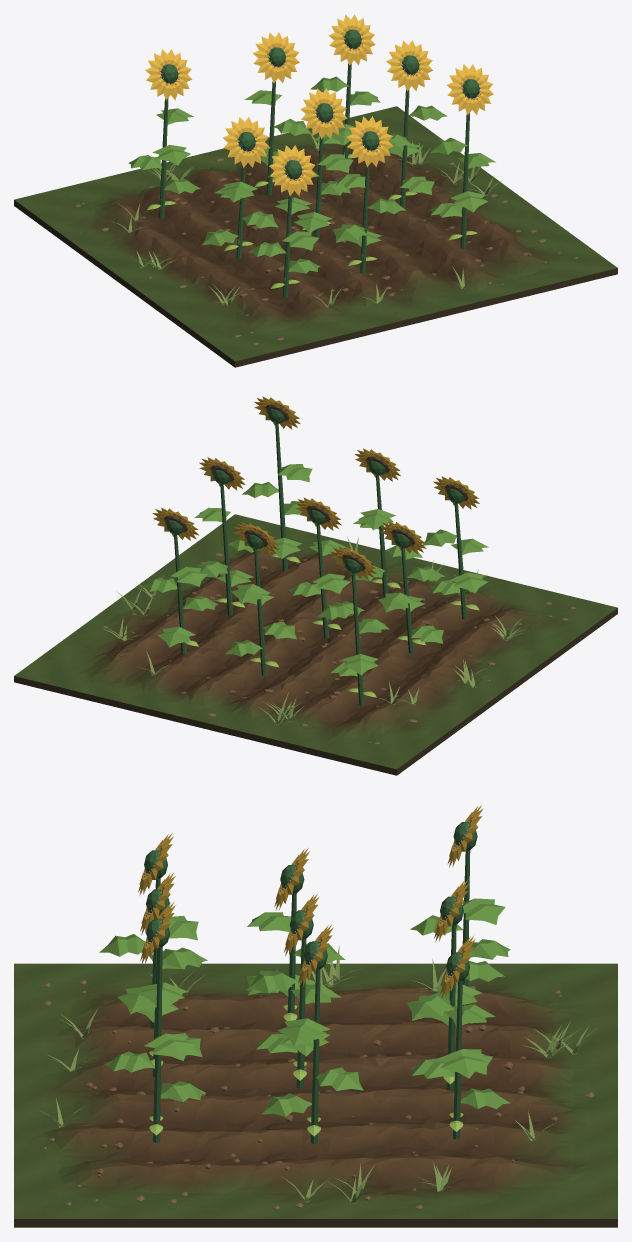
The model's file is sunflower-field.glb.
The picture shows the model from 3 angles, top to bottom: view 1: azimuth 30°, elevation 25°; view 2: azimuth 150°, elevation 25°; view 3: azimuth 270°, elevation 25°; orthographic projection. The views are drawn at different scales.
Parts seen in each view (by area): view 1: Static_mesh, RayFlorets.003_mesh, RayFlorets.002_mesh, RayFlorets.001_mesh, RayFlorets.006_mesh, RayFlorets_mesh, RayFlorets.005_mesh, RayFlorets.004_mesh, RayFlorets.007_mesh, RayFlorets.008_mesh, TallStem.002_mesh, TallStem.007_mesh (+4 smaller); view 2: Static_mesh, TallStem.005_mesh, TallStem.002_mesh, TallStem.007_mesh, TallStem.006_mesh, RayFlorets.002_mesh, RayFlorets_mesh, RayFlorets.005_mesh, RayFlorets.003_mesh, RayFlorets.007_mesh, RayFlorets.006_mesh, RayFlorets.004_mesh (+3 smaller); view 3: Static_mesh, TallStem.002_mesh, TallStem.005_mesh, HeartLeaf.034_mesh, HeartLeaf.023_mesh, HeartLeaf.010_mesh, TallStem.008_mesh, HeartLeaf.030_mesh, HeartLeaf.027_mesh, HeartLeaf.021_mesh, HeartLeaf.020_mesh, HeartLeaf.019_mesh (+20 smaller).
Part boxes in pixels (bbox=[...]): Static_mesh: bbox=[14, 106, 617, 367]; RayFlorets.003_mesh: bbox=[222, 117, 269, 167]; RayFlorets.002_mesh: bbox=[447, 64, 493, 115]; RayFlorets.001_mesh: bbox=[346, 116, 393, 167]; RayFlorets.006_mesh: bbox=[145, 49, 192, 100]; RayFlorets_mesh: bbox=[269, 145, 315, 195]; RayFlorets.005_mesh: bbox=[386, 40, 432, 91]; RayFlorets.004_mesh: bbox=[300, 88, 347, 139]; RayFlorets.007_mesh: bbox=[253, 32, 299, 83]; RayFlorets.008_mesh: bbox=[328, 14, 375, 65]; TallStem.002_mesh: bbox=[460, 113, 469, 248]; TallStem.007_mesh: bbox=[266, 81, 275, 196]; Static_mesh: bbox=[14, 514, 617, 775]; TallStem.005_mesh: bbox=[220, 484, 233, 616]; TallStem.002_mesh: bbox=[275, 423, 288, 571]; TallStem.007_mesh: bbox=[254, 549, 266, 676]; TallStem.006_mesh: bbox=[351, 573, 364, 706]; RayFlorets.002_mesh: bbox=[254, 396, 300, 429]; RayFlorets_mesh: bbox=[433, 476, 479, 509]; RayFlorets.005_mesh: bbox=[199, 457, 245, 490]; RayFlorets.003_mesh: bbox=[380, 521, 426, 554]; RayFlorets.007_mesh: bbox=[233, 522, 279, 555]; RayFlorets.006_mesh: bbox=[330, 546, 376, 579]; RayFlorets.004_mesh: bbox=[295, 497, 341, 530]; Static_mesh: bbox=[14, 963, 617, 1227]; TallStem.002_mesh: bbox=[152, 947, 162, 1142]; TallStem.005_mesh: bbox=[310, 970, 320, 1143]; HeartLeaf.034_mesh: bbox=[437, 1049, 488, 1078]; HeartLeaf.023_mesh: bbox=[278, 1018, 330, 1046]; HeartLeaf.010_mesh: bbox=[144, 1033, 195, 1061]; TallStem.008_mesh: bbox=[453, 981, 462, 1139]; HeartLeaf.030_mesh: bbox=[407, 995, 453, 1020]; HeartLeaf.027_mesh: bbox=[462, 898, 505, 924]; HeartLeaf.021_mesh: bbox=[316, 1067, 363, 1090]; HeartLeaf.020_mesh: bbox=[261, 1093, 311, 1116]; HeartLeaf.019_mesh: bbox=[246, 970, 298, 993].
Size of the model in its own units: 3.5 by 1.66 by 3.5.
